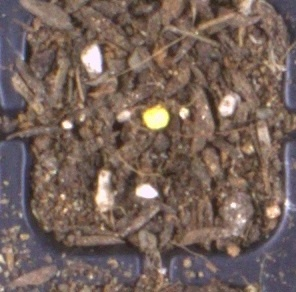chilli seed: (141, 104, 170, 130)
